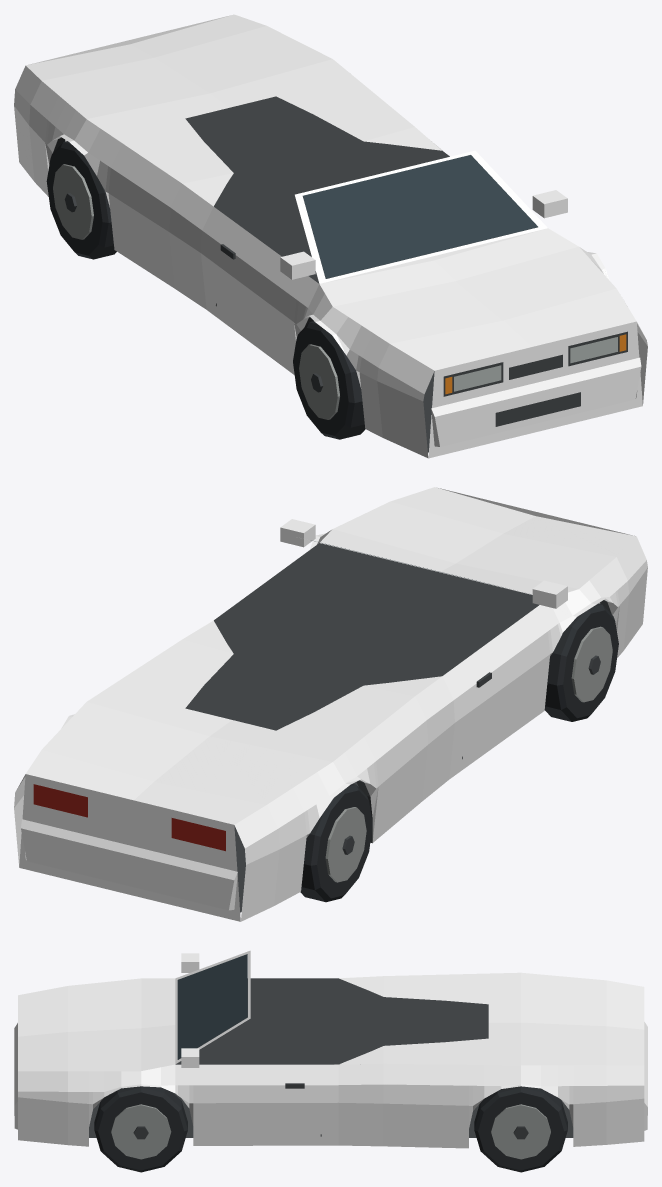
Rendered from pemberly_fieldfare_r.glb.
The picture shows the model from 3 angles, top to bottom: view 1: azimuth 30°, elevation 25°; view 2: azimuth 150°, elevation 25°; view 3: azimuth 270°, elevation 25°; orthographic projection. The views are drawn at different scales.
Visible parts, largest first — view 1: pemberly_fieldfare_r; view 2: pemberly_fieldfare_r; view 3: pemberly_fieldfare_r.
Boxes of the visible parts, box(x1,y1,x2,y2) form: pemberly_fieldfare_r: box(14, 14, 647, 458); pemberly_fieldfare_r: box(14, 487, 647, 921); pemberly_fieldfare_r: box(14, 950, 647, 1172).
Bounding box in the file's own units: 1.67 × 1.02 × 4.22.
Materials: 8 (1 with a texture image).
